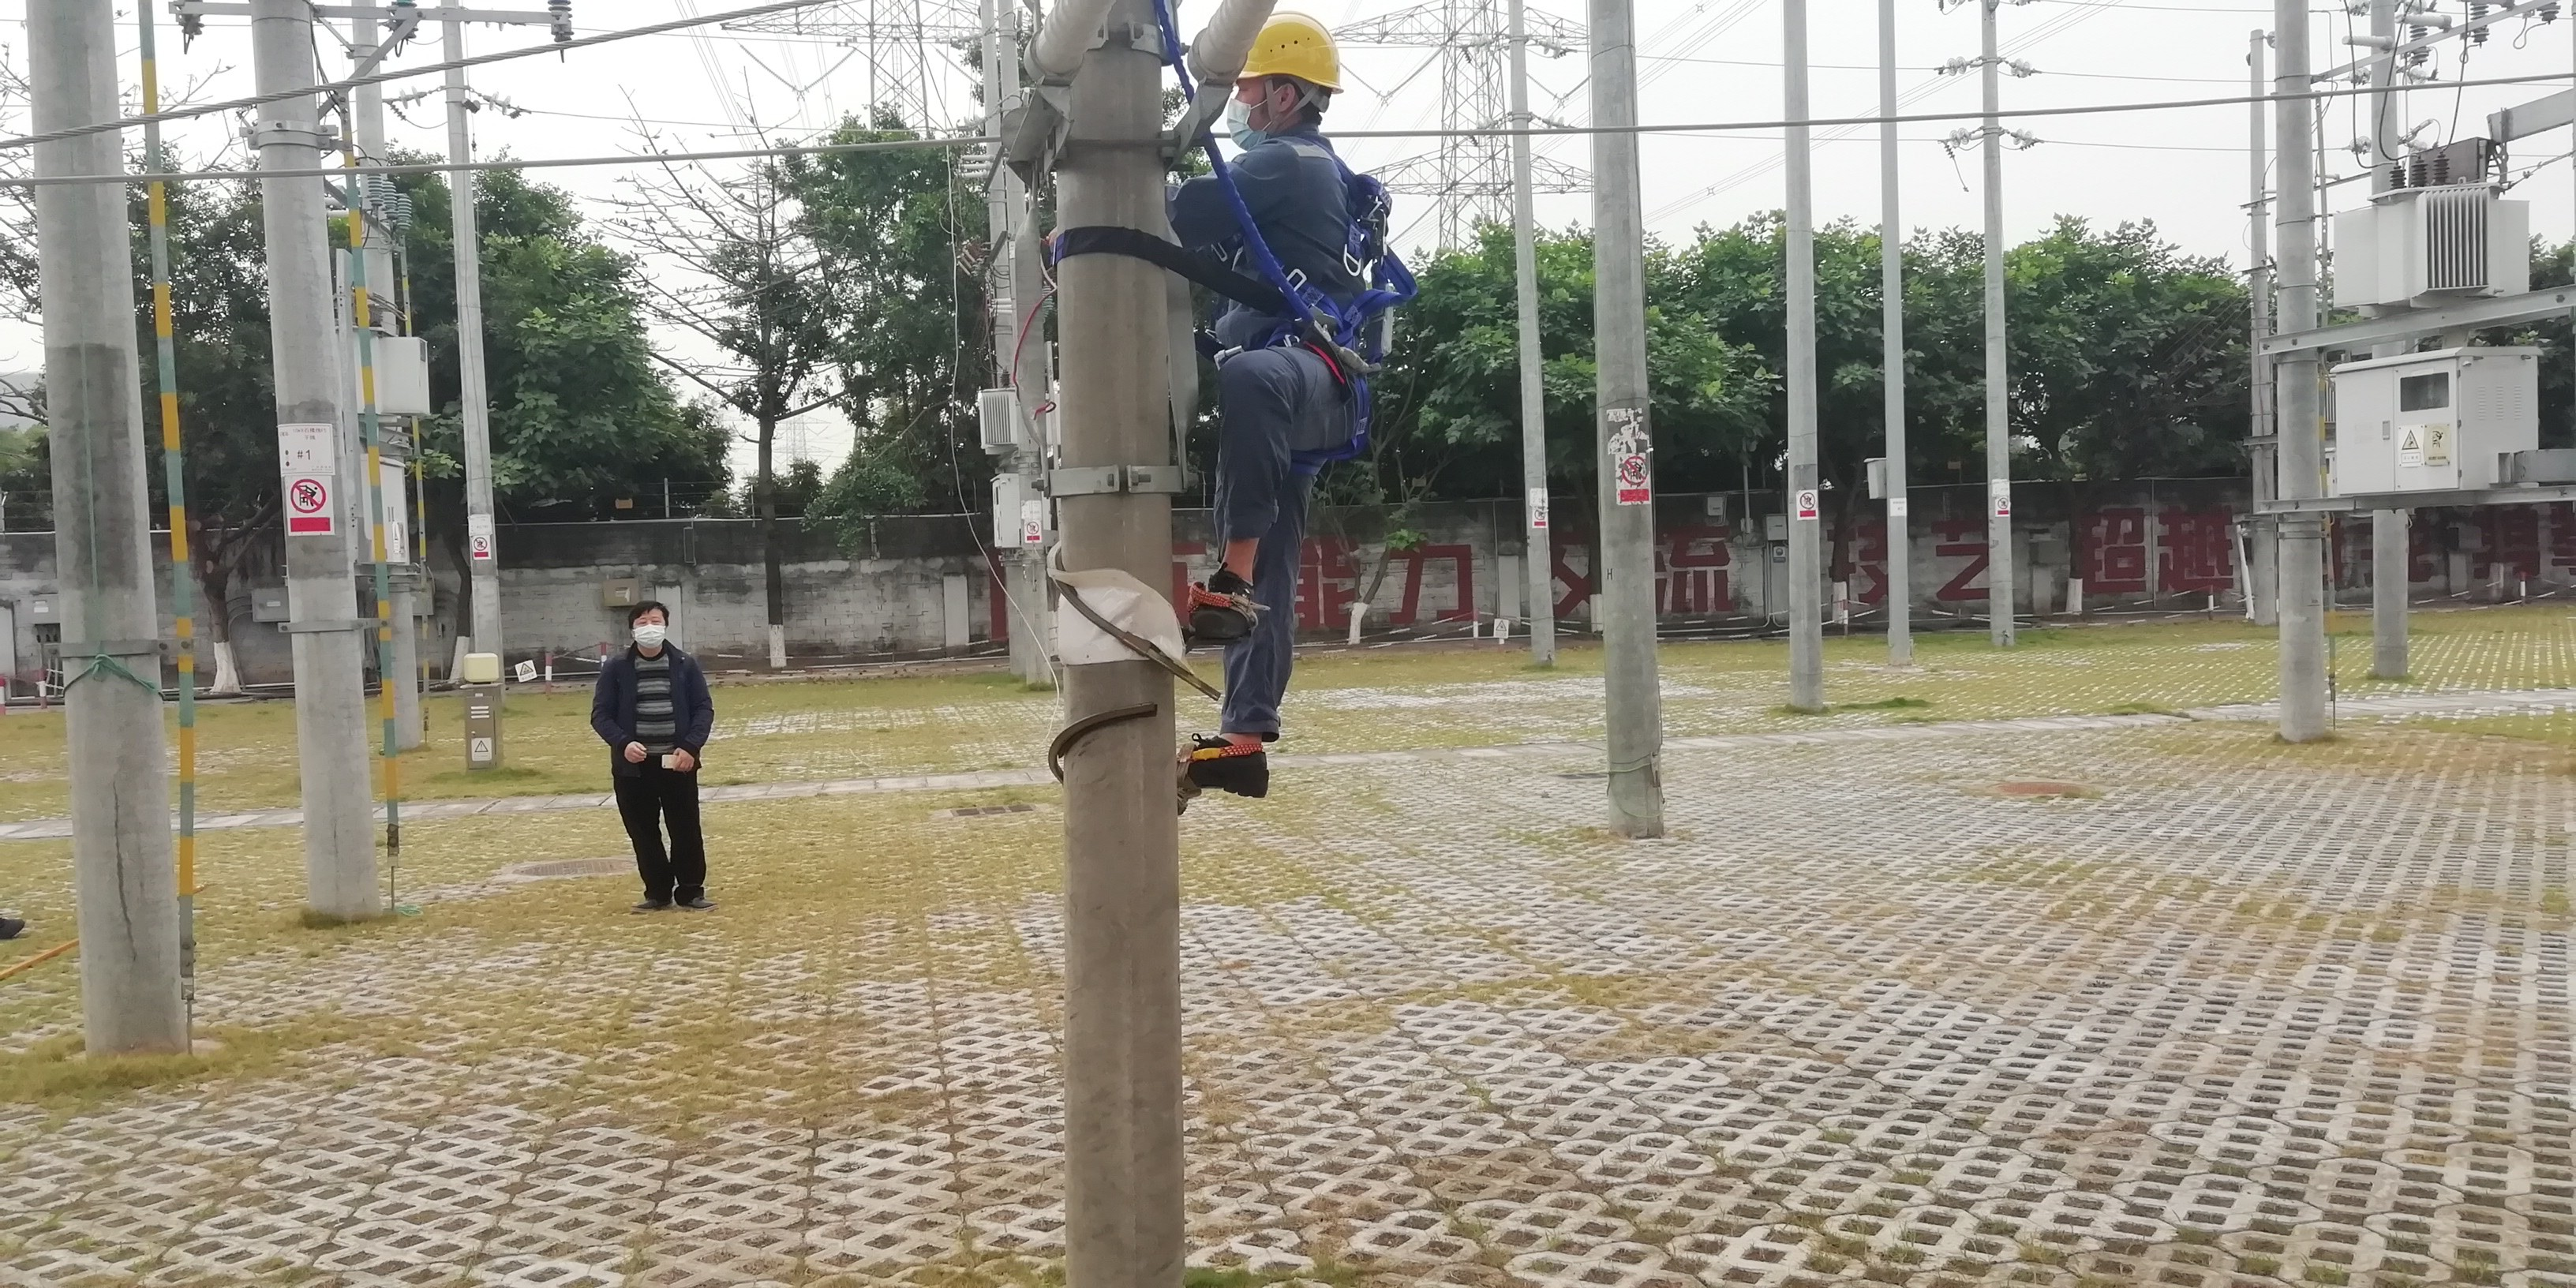downcloth: (614, 780, 706, 899)
downsuit: (1214, 350, 1368, 743)
upcloth: (588, 641, 715, 779)
upsuit: (1173, 122, 1372, 347)
wrongbottom: (1222, 498, 1275, 586)
